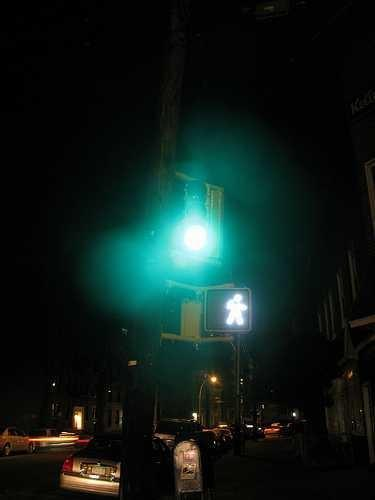1: (209, 284, 254, 332)
2: (182, 180, 211, 256)
red traffic light: (180, 225, 214, 256)
